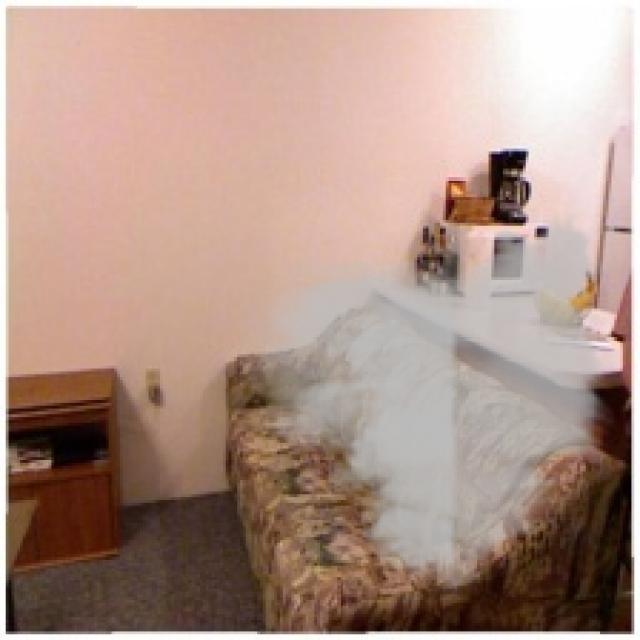smoke: (240, 200, 620, 603)
